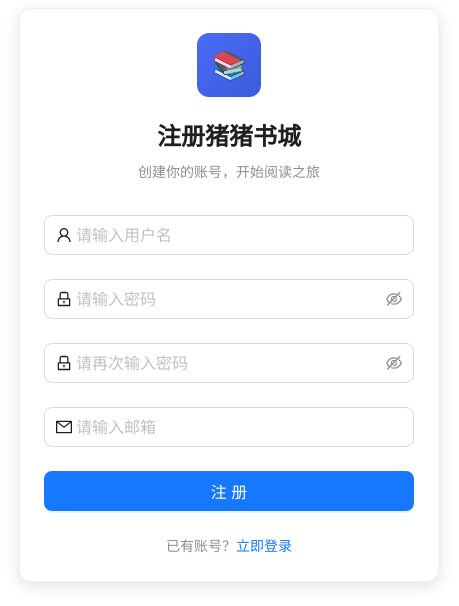
Test: RegisterPage › 两次密码不一致时显示校验提示
This screenshot has width=459, height=606.
Type "testuser" into the field with placeholder "请输入用户名".
click(239, 235); type("testuser")  # box top-left (76, 223), bottom-right (402, 247)
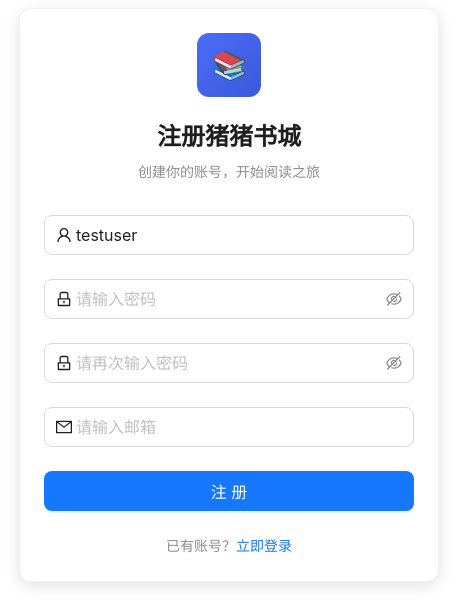
Type "password123" into the password field with placeholder "请输入密码".
click(229, 299); type("password123")  # box top-left (76, 287), bottom-right (382, 311)
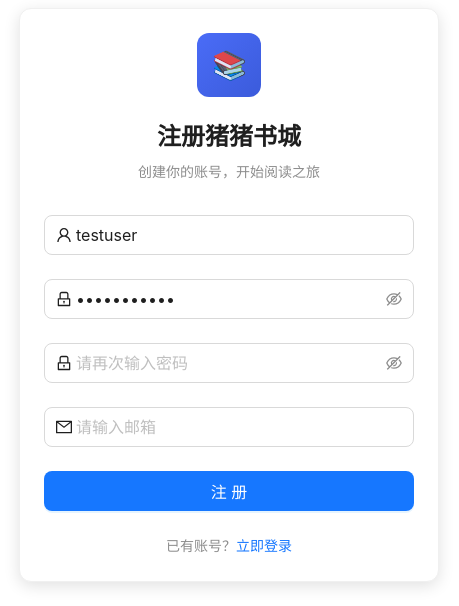
Type "different456" into the password field with placeholder "请再次输入密码".
click(229, 363); type("different456")  # box top-left (76, 351), bottom-right (382, 375)
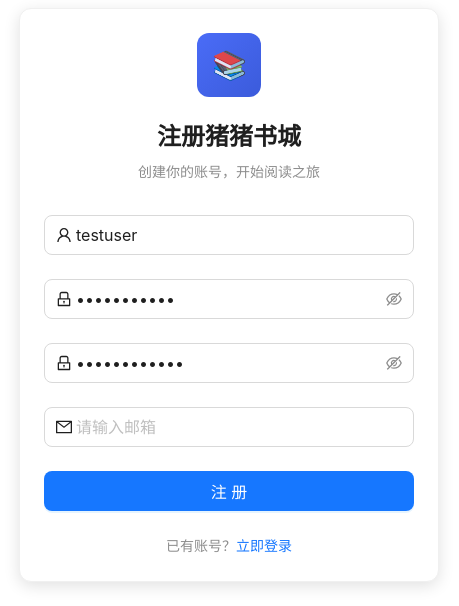
Note: 触发 blur 让 Ant Design 校验
Leave the 2nd password field with placeholder "请再次输入密码", box top-left (76, 351), bottom-right (382, 375)
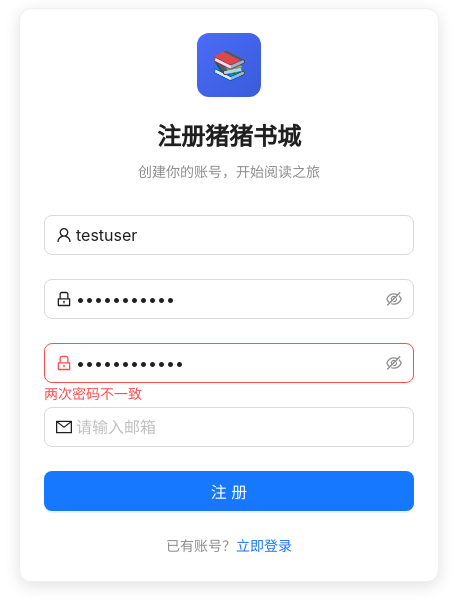
Expected: the text "两次密码不一致" is shown, top-left (44, 385), bottom-right (142, 402)
